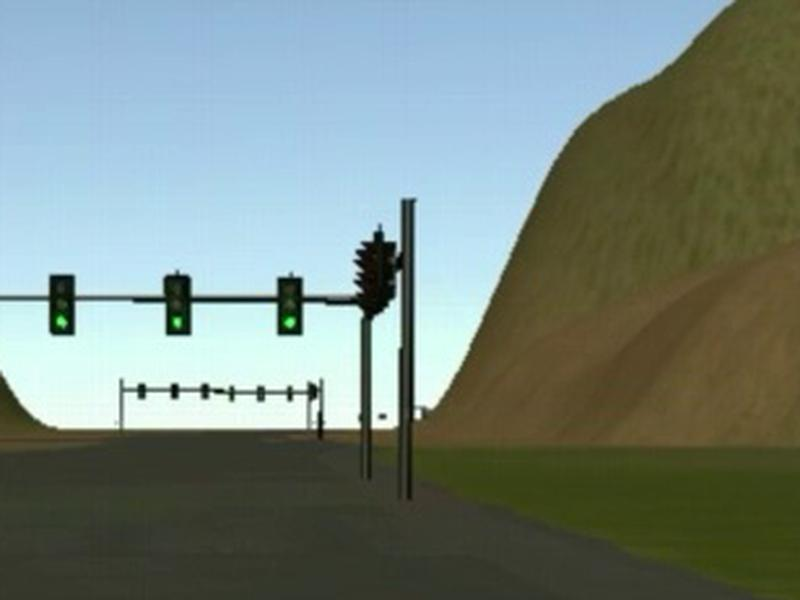Green: (274, 276, 303, 334), (48, 273, 74, 336), (164, 275, 190, 335)
